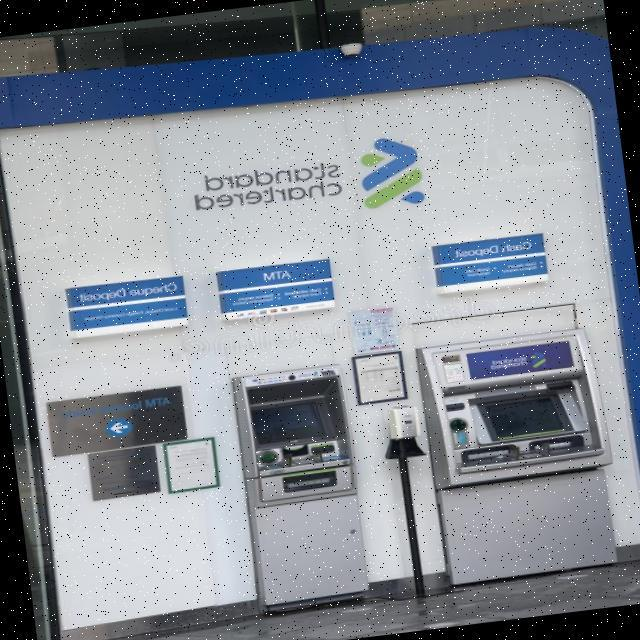Standard Chartered: (192, 129, 428, 234)
